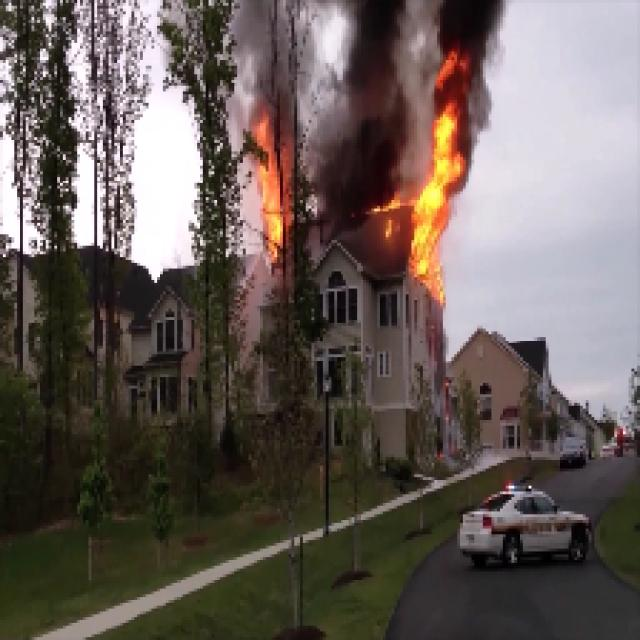fire: (414, 90, 458, 279)
smoke: (316, 10, 401, 212), (433, 3, 492, 79)
